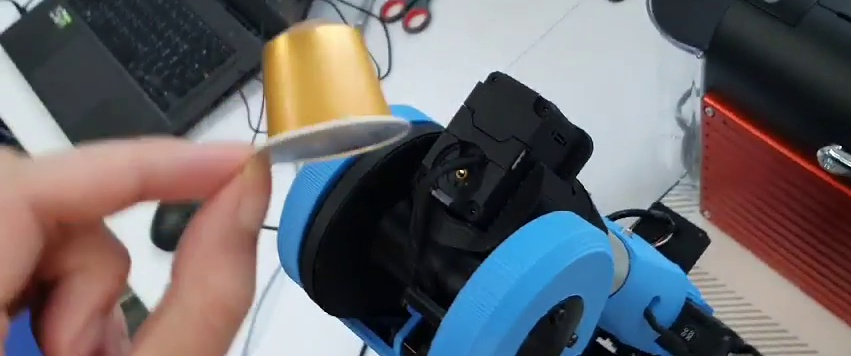capsule_8: (250, 18, 410, 167)
